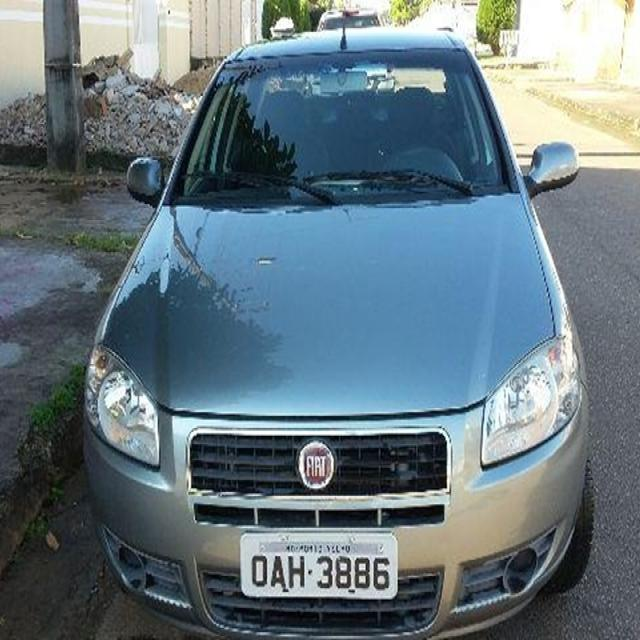Placa: (237, 531, 401, 603)
